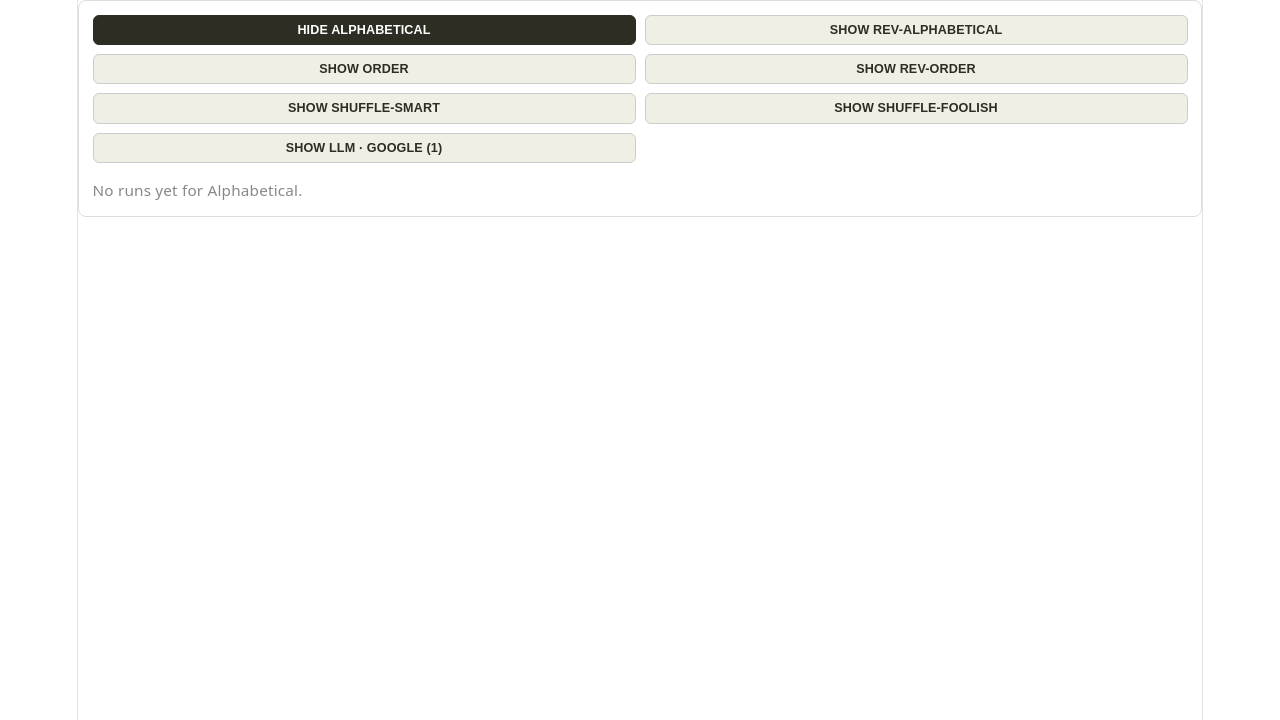
GuessSequencePanel Component › shows the Google LLM tab with its own label
Click the button "Show LLM · Google (1)": (364, 148) [92,133,636,163]
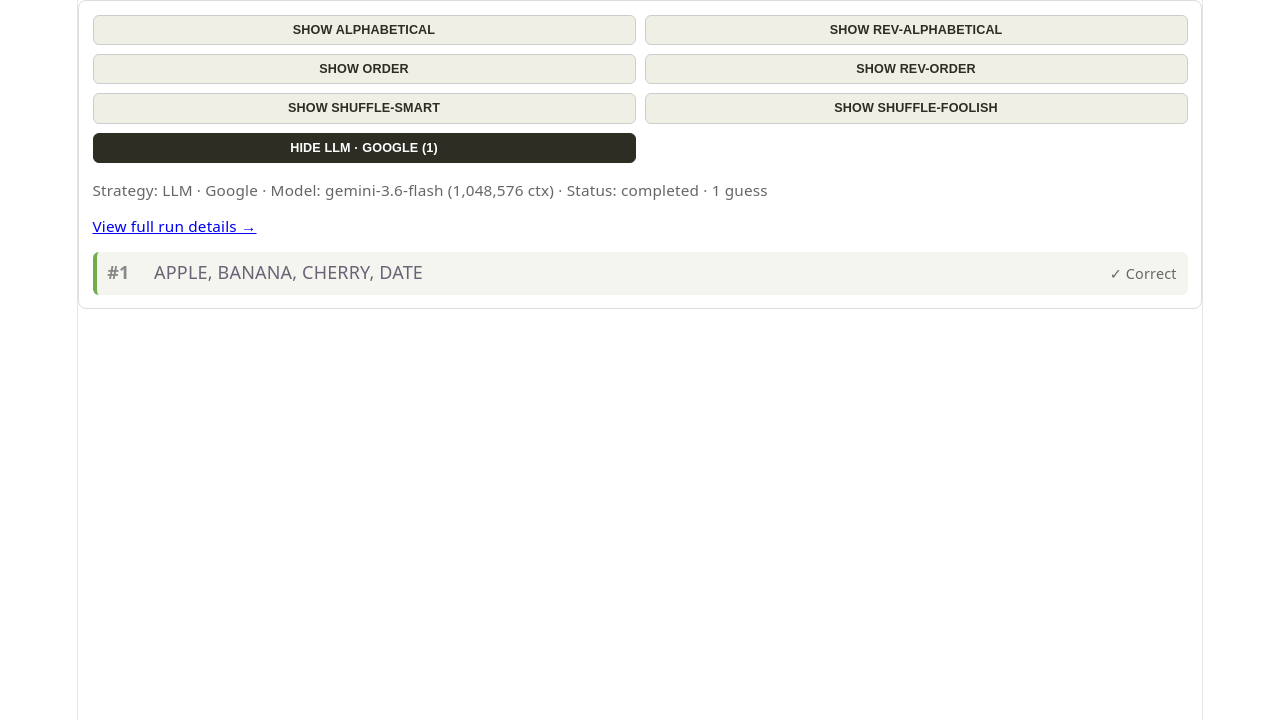
Now the text "Strategy: LLM · Google · Model: gemini-3.6-flash (1,048,576 ctx) · Status: completed · 1 guess" is shown, box [92,180,768,200]
